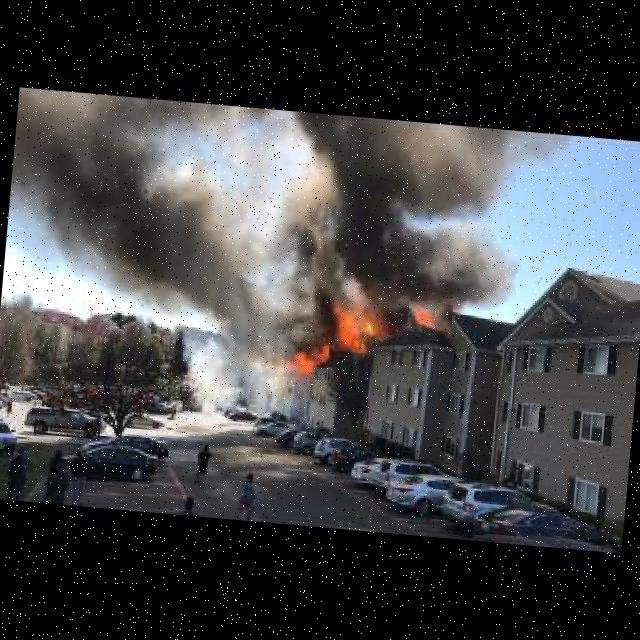fire: (332, 296, 378, 360), (281, 330, 330, 380), (407, 300, 452, 334)
